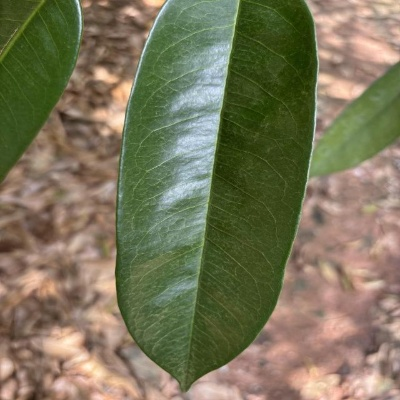Leaf_Healthy: (113, 0, 320, 392)
